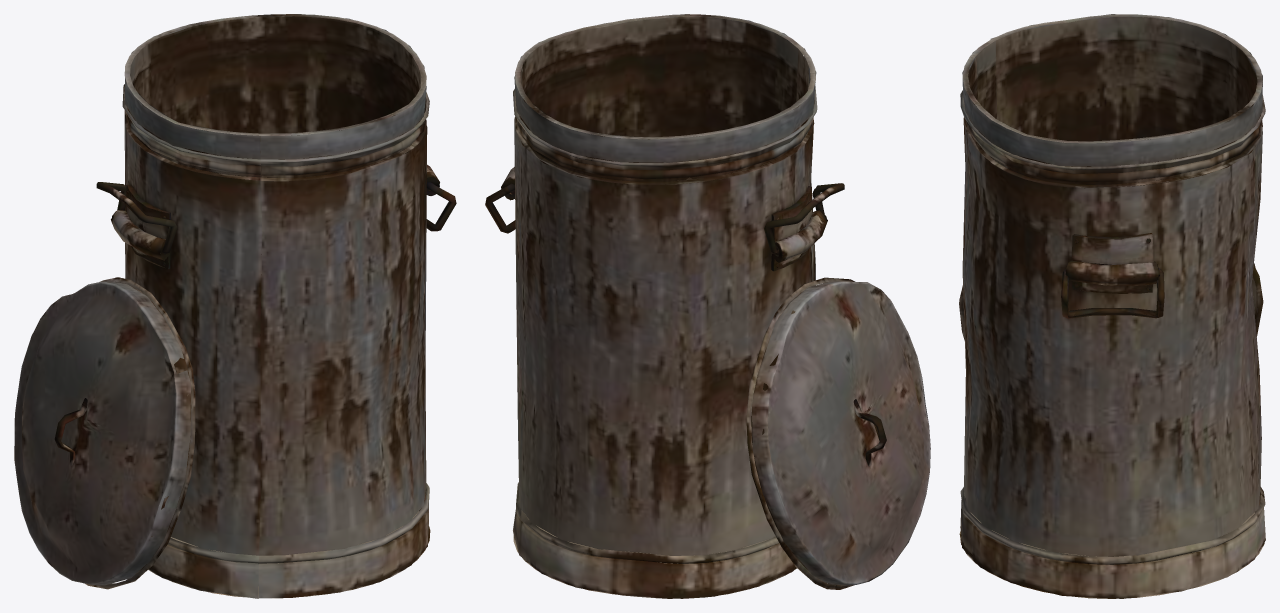
Rendered from metal_trash_can.glb.
3 views of the same model, side by side, from view 1: azimuth 30°, elevation 25°; view 2: azimuth 150°, elevation 25°; view 3: azimuth 270°, elevation 25° (orthographic).
Parts seen in each view (by area): view 1: metal_trash_can_rust, metal_trash_can_rust_lid, metal_trash_can_rust_handle_left, metal_trash_can_rust_handle_right; view 2: metal_trash_can_rust, metal_trash_can_rust_lid, metal_trash_can_rust_handle_left, metal_trash_can_rust_handle_right; view 3: metal_trash_can_rust, metal_trash_can_rust_handle_right, metal_trash_can_rust_lid.
Part boxes in pixels (bbox=[...]): metal_trash_can_rust: bbox=[111, 14, 439, 598]; metal_trash_can_rust_lid: bbox=[14, 277, 195, 589]; metal_trash_can_rust_handle_left: bbox=[96, 182, 177, 254]; metal_trash_can_rust_handle_right: bbox=[426, 182, 456, 231]; metal_trash_can_rust: bbox=[501, 14, 827, 598]; metal_trash_can_rust_lid: bbox=[746, 277, 930, 589]; metal_trash_can_rust_handle_left: bbox=[764, 183, 844, 255]; metal_trash_can_rust_handle_right: bbox=[485, 183, 515, 233]; metal_trash_can_rust: bbox=[959, 14, 1265, 598]; metal_trash_can_rust_handle_right: bbox=[1061, 268, 1164, 318]; metal_trash_can_rust_lid: bbox=[959, 263, 1263, 340].
Size of the model in its own units: 0.7747 by 0.9063 by 0.5501.
Materials: 2 (2 with a texture image).
